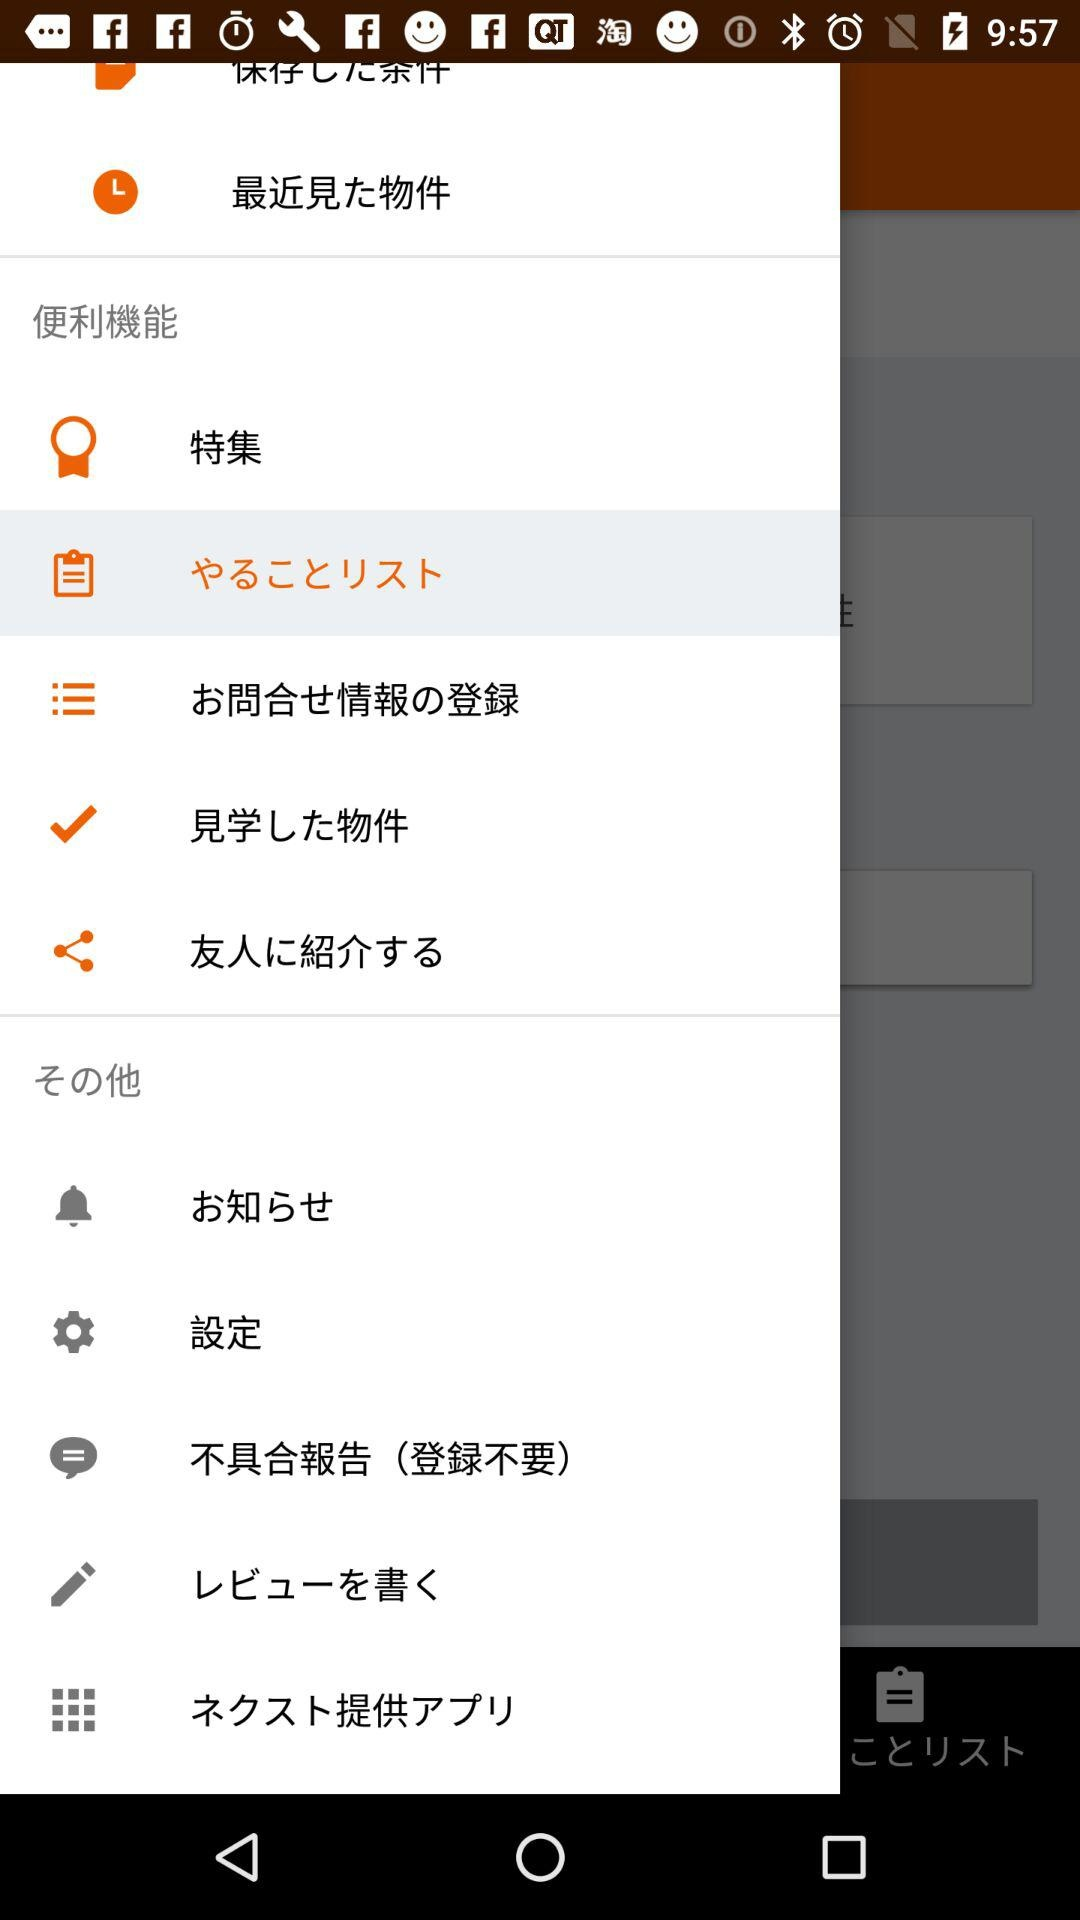Bar: (5, 63, 1075, 210)
Button: (42, 866, 1038, 992)
ImageView: (696, 231, 822, 357), (717, 579, 782, 642), (84, 63, 146, 98), (777, 1196, 798, 1216)
SpecialButton: (42, 1499, 1038, 1625)
TextView: (42, 1709, 1038, 1753), (32, 258, 178, 384), (231, 63, 798, 91), (32, 1731, 328, 1775)
